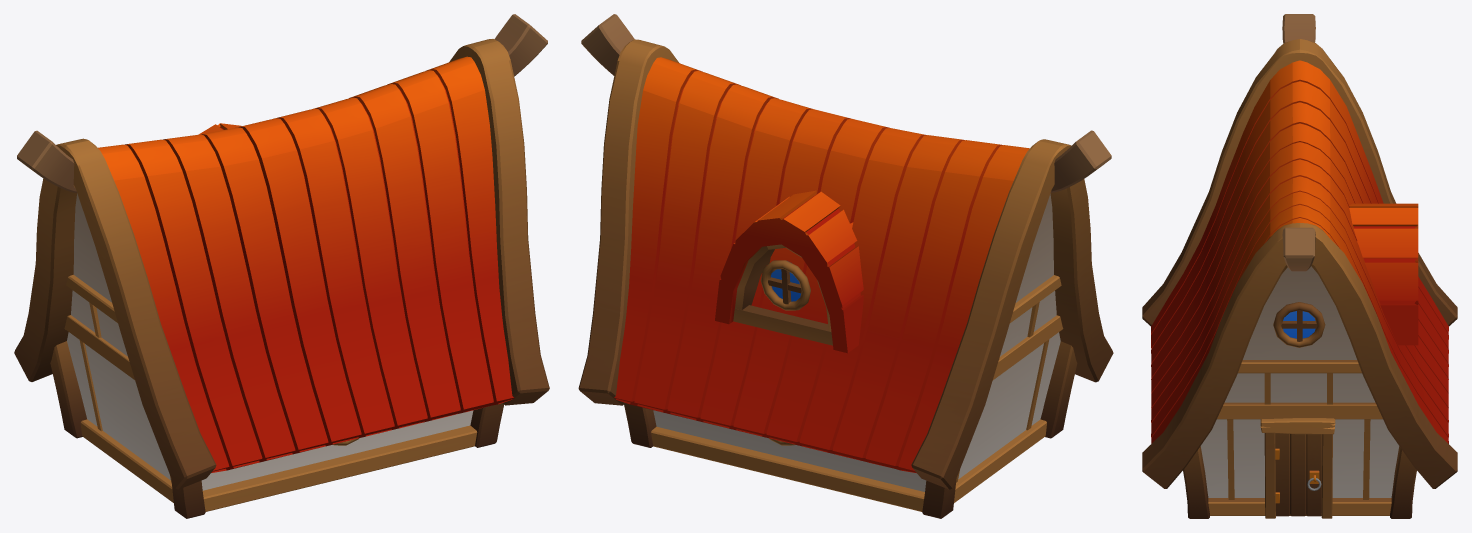
Rendered from obj_House1 (1).fbx.
The picture shows the model from 3 angles, left to right: view 1: azimuth 30°, elevation 25°; view 2: azimuth 150°, elevation 25°; view 3: azimuth 270°, elevation 25°; orthographic projection. The views are drawn at different scales.
Visible parts, largest first — view 1: obj_House1; view 2: obj_House1; view 3: obj_House1.
Part boxes in pixels (left/top/right/bottom): obj_House1: left=14, top=14, right=549, bottom=518; obj_House1: left=578, top=14, right=1113, bottom=518; obj_House1: left=1142, top=14, right=1457, bottom=518.
Bounding box in the file's own units: 404 × 269 × 233.
